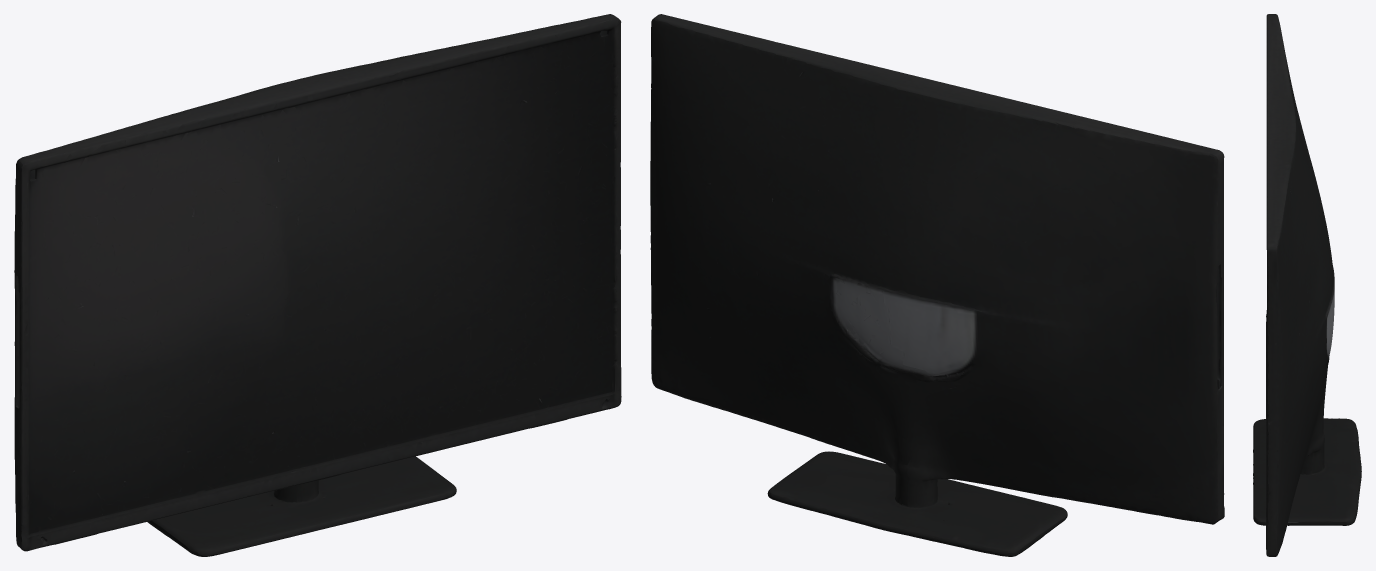
File: item_ad8005a3.glb
3 renders of one model, left to right at view 1: azimuth 30°, elevation 25°; view 2: azimuth 150°, elevation 25°; view 3: azimuth 270°, elevation 25°, orthographic. The views are drawn at different scales.
Visible parts, largest first — view 1: world; view 2: world; view 3: world.
Boxes of the visible parts, left/top/right/bottom form: world: left=14, top=14, right=621, bottom=556; world: left=650, top=14, right=1224, bottom=556; world: left=1253, top=14, right=1361, bottom=556.
Size of the model in its own units: 0.61 by 0.4208 by 0.1195.
Materials: 1 (1 with a texture image).
